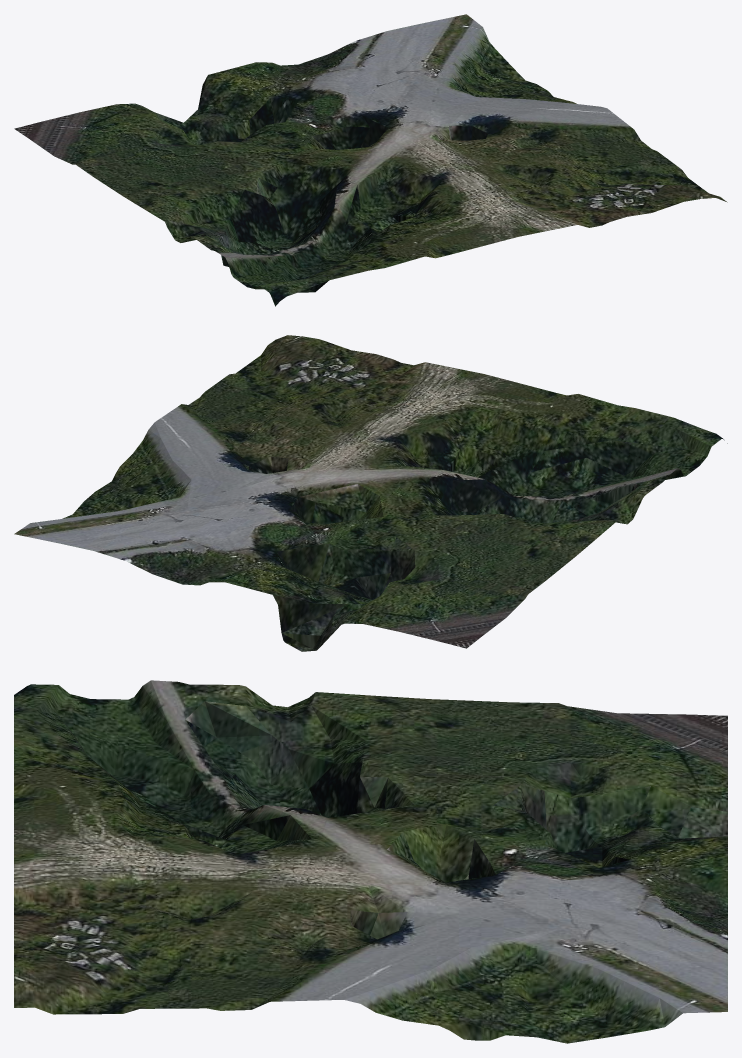
Rendered from map_15_8178_13782.dae.
The picture shows the model from 3 angles, top to bottom: view 1: azimuth 30°, elevation 25°; view 2: azimuth 150°, elevation 25°; view 3: azimuth 270°, elevation 25°; orthographic projection. The views are drawn at different scales.
Parts seen in each view (by area): view 1: Ter0; view 2: Ter0; view 3: Ter0.
Boxes of the visible parts, bbox=[...] form: Ter0: bbox=[14, 14, 727, 306]; Ter0: bbox=[14, 335, 727, 651]; Ter0: bbox=[14, 680, 727, 1043].
Bounding box in the file's own units: 63.88 × 63.88 × 9.5.
2 materials, 2 textured.
